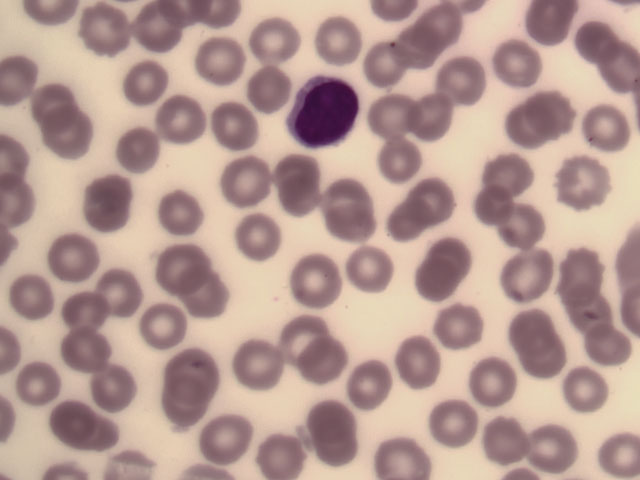RBC: (23, 65, 91, 127), (35, 100, 103, 162), (97, 119, 165, 181), (102, 45, 170, 107), (145, 91, 213, 153), (69, 1, 137, 61), (205, 101, 261, 154), (237, 63, 293, 116), (194, 37, 250, 90), (246, 15, 302, 68), (131, 3, 187, 56), (314, 15, 370, 68), (351, 37, 407, 90), (385, 26, 441, 79), (414, 14, 470, 67), (497, 35, 553, 88), (566, 9, 622, 62), (584, 32, 640, 85), (583, 103, 639, 156), (527, 85, 583, 138), (497, 106, 553, 159), (436, 57, 492, 110), (408, 88, 464, 141), (364, 87, 420, 140), (367, 137, 423, 190), (416, 173, 472, 226), (387, 200, 443, 253), (422, 228, 478, 281), (414, 255, 470, 308), (461, 183, 517, 236), (484, 140, 540, 193), (494, 201, 550, 254), (551, 162, 607, 215), (503, 245, 559, 298), (544, 251, 600, 304), (558, 291, 614, 344), (581, 319, 637, 372), (498, 302, 554, 355), (515, 324, 571, 377), (555, 367, 611, 420), (584, 427, 640, 480), (523, 427, 579, 480), (475, 413, 531, 466), (428, 391, 484, 444), (462, 353, 518, 406), (430, 299, 486, 352), (398, 336, 454, 389), (349, 355, 405, 408), (303, 337, 359, 390), (276, 309, 332, 362), (292, 249, 348, 302), (344, 244, 400, 297), (335, 206, 391, 259), (325, 176, 381, 229), (278, 172, 334, 225), (269, 142, 325, 195), (214, 157, 270, 210), (226, 215, 282, 268), (155, 188, 211, 241), (148, 236, 204, 289), (175, 269, 231, 322), (139, 300, 195, 353), (159, 337, 215, 390), (157, 379, 213, 432), (225, 345, 281, 398), (201, 411, 257, 464), (257, 427, 313, 480), (298, 397, 354, 450), (387, 427, 443, 480), (42, 393, 98, 446), (15, 356, 71, 409), (56, 322, 112, 375), (91, 358, 147, 411), (56, 285, 112, 338), (95, 264, 151, 317), (46, 232, 102, 285), (10, 272, 66, 325), (78, 179, 134, 232)
WBC: (289, 73, 368, 147)
